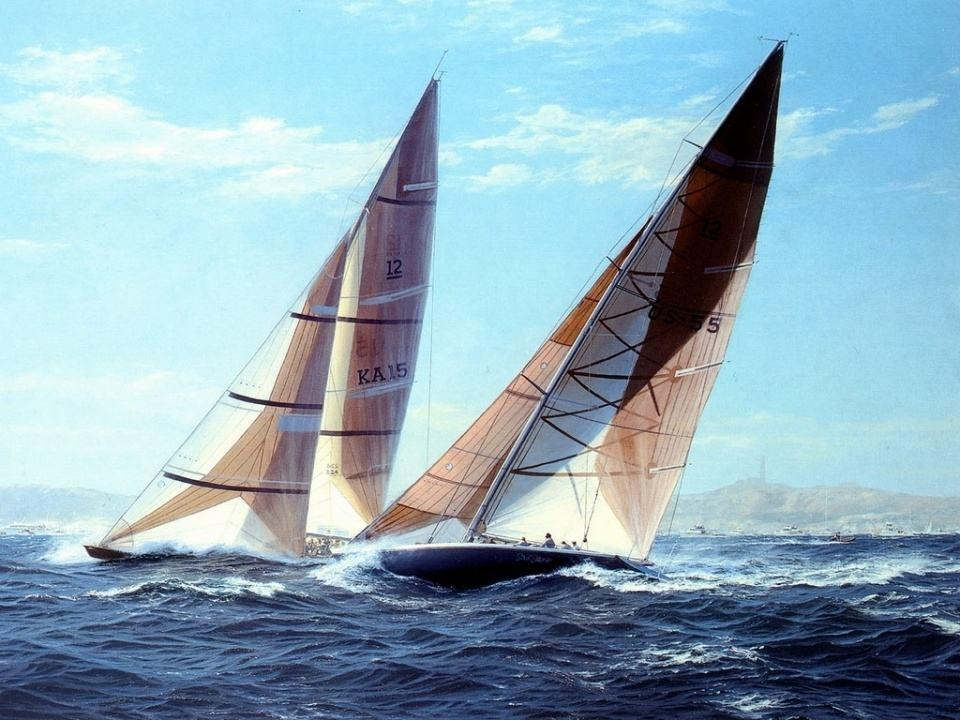fanchuan: (341, 32, 828, 593), (82, 50, 490, 573)
